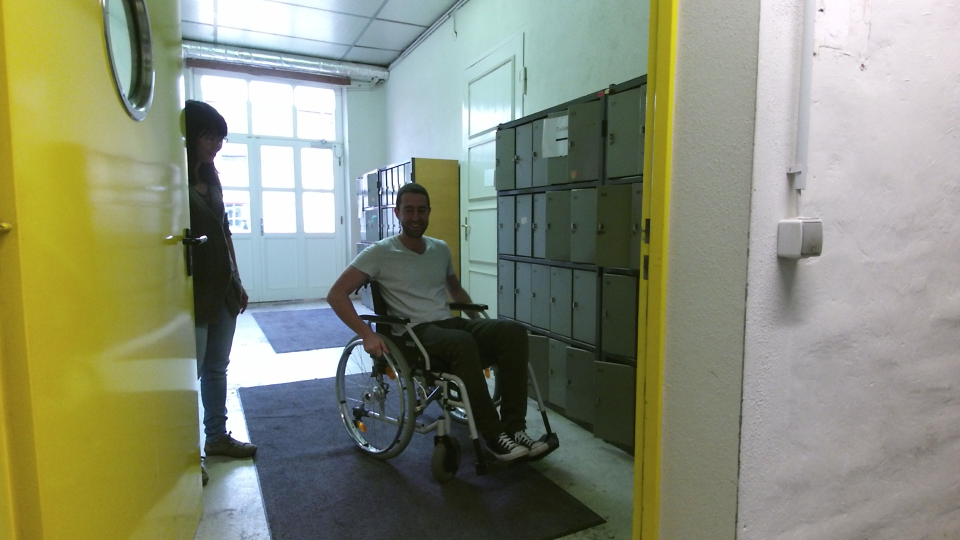wheelchair: (311, 176, 575, 485)
